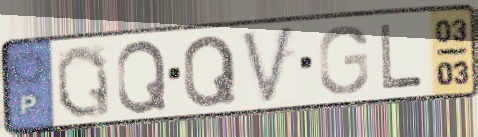G: (316, 23, 371, 97)
L: (377, 21, 426, 91)
Q: (53, 42, 114, 121), (181, 32, 240, 110), (114, 38, 170, 116)
V: (238, 22, 297, 108)
